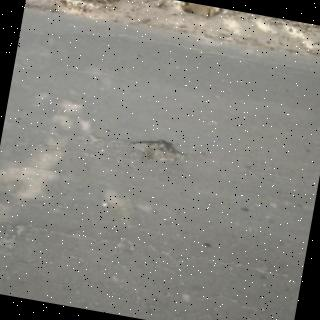pothole: (126, 140, 185, 165)
